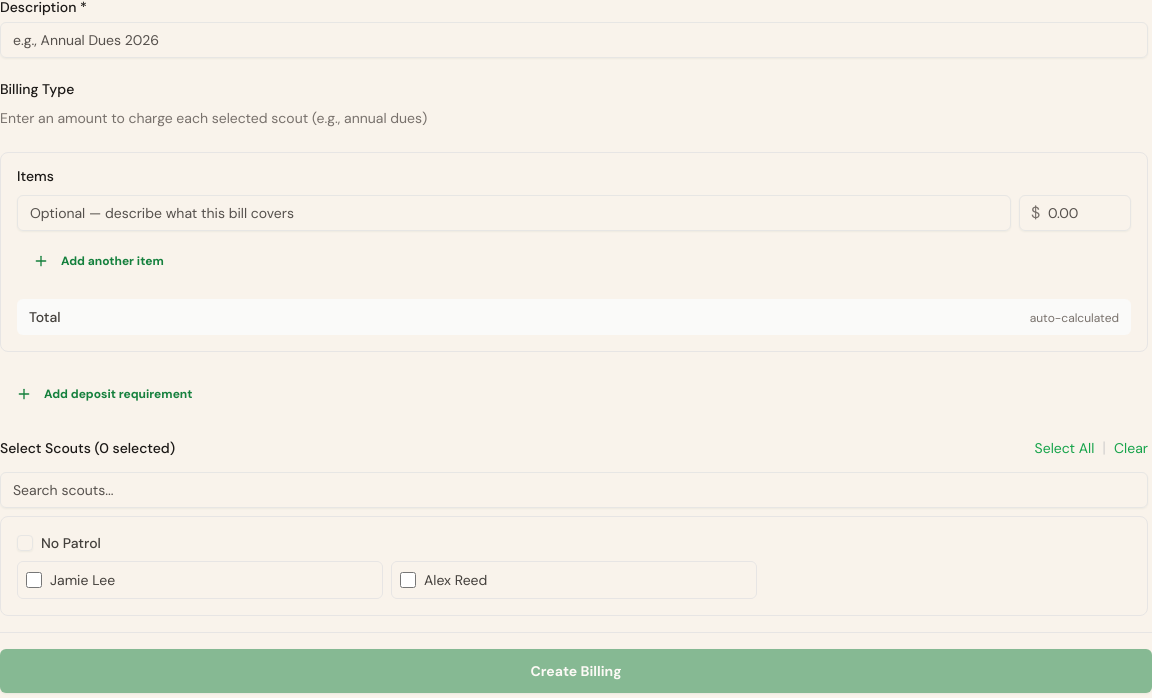
Test case: BillingForm — line items as source of truth › reveals a second row with description + amount + remove when "Add another item" is clicked
The image size is (1152, 698).
Click the button "Add another item": coordinates (98, 261) [17,243,180,279]
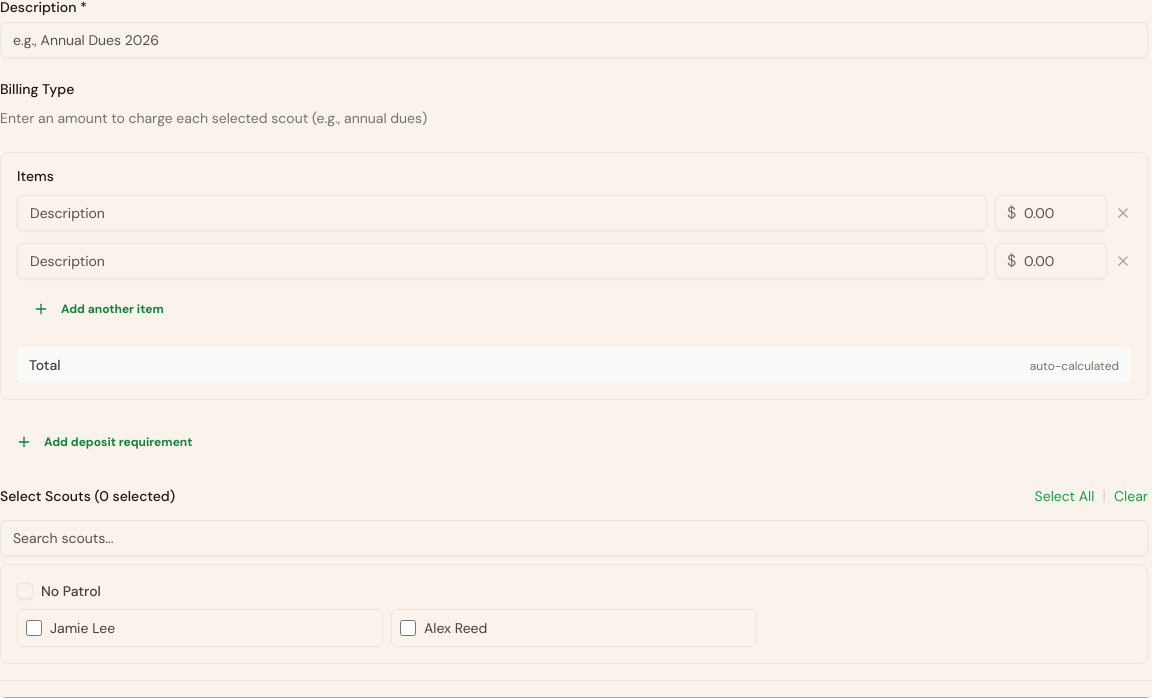
Expected: the number of number fields with placeholder "0.00" is 2, [995,195,1107,231]; [995,243,1107,279]
